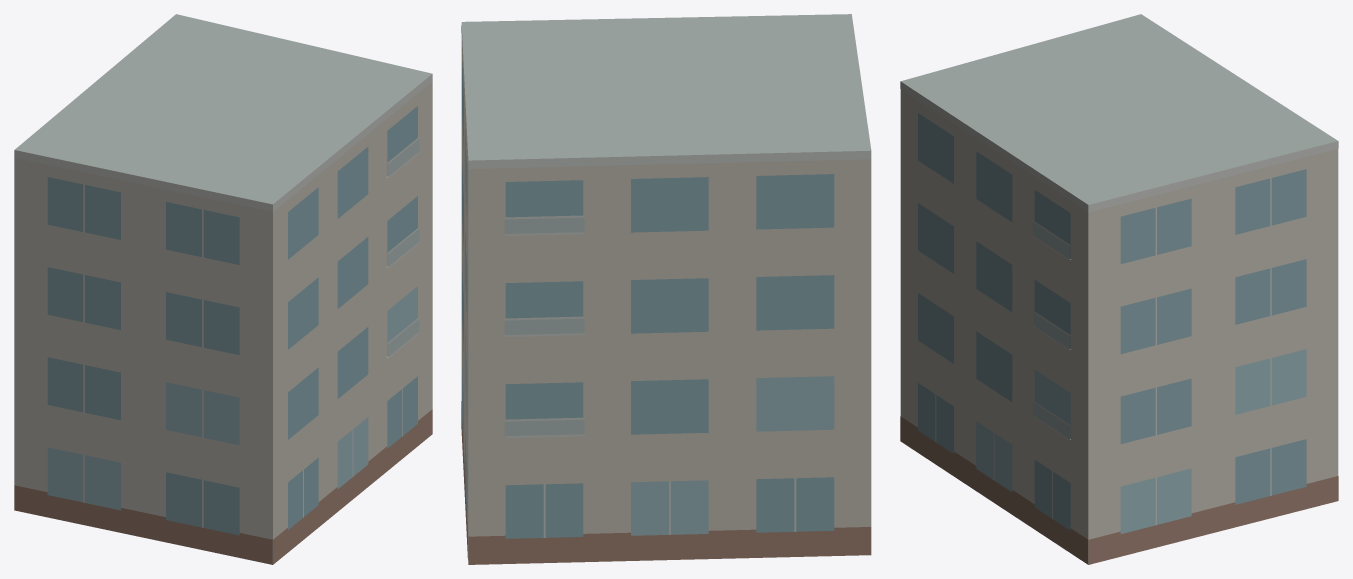
The model's file is survey-upis-32910558.glb.
3 renders of one model, left to right at view 1: azimuth 30°, elevation 25°; view 2: azimuth 150°, elevation 25°; view 3: azimuth 270°, elevation 25°, orthographic. The views are drawn at different scales.
Parts seen in each view (by area): view 1: survey-upis-32910558.tmp; view 2: survey-upis-32910558.tmp; view 3: survey-upis-32910558.tmp.
Boxes of the visible parts, x1,y1,x2,y2 form: survey-upis-32910558.tmp: (14, 14, 432, 564); survey-upis-32910558.tmp: (461, 14, 871, 564); survey-upis-32910558.tmp: (900, 14, 1338, 564).
Size of the model in its own units: 13.2 by 11.6 by 12.8.
